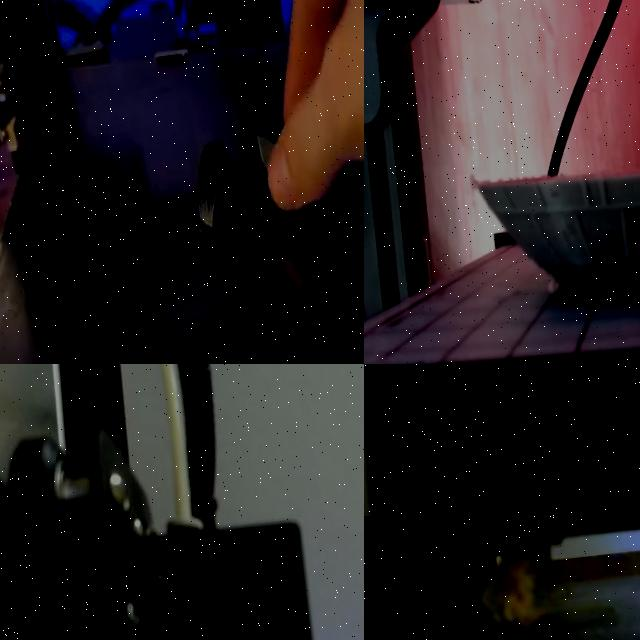spaghetti: (479, 541, 570, 630)
